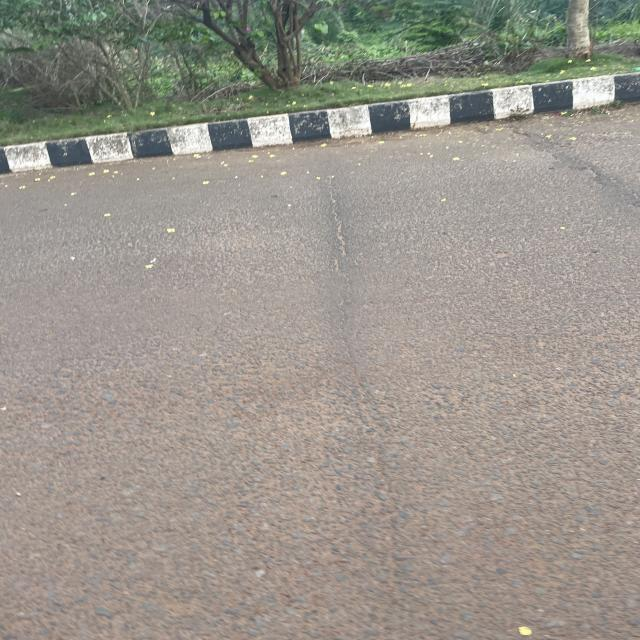D11: (300, 191, 417, 509)
